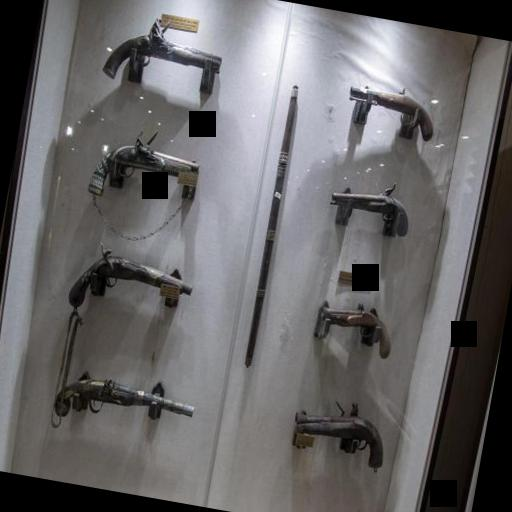Handgun: (45, 359, 200, 452), (60, 234, 200, 334), (96, 2, 230, 102), (82, 128, 206, 218), (284, 387, 393, 477), (322, 172, 416, 243), (306, 293, 397, 365), (341, 78, 440, 140)
